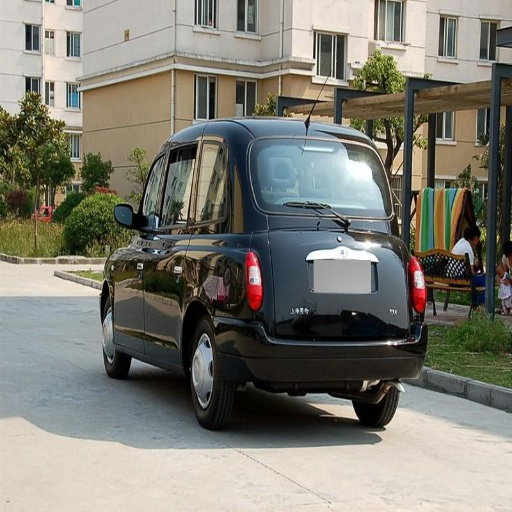back_bumper: (223, 319, 424, 391)
back_glass: (258, 146, 390, 216)
back_left_door: (144, 201, 184, 357), (191, 137, 224, 202)
trunk: (189, 213, 409, 342)
